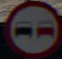No overtake: (7, 5, 59, 52)
